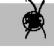not correct: (21, 0, 48, 41)
